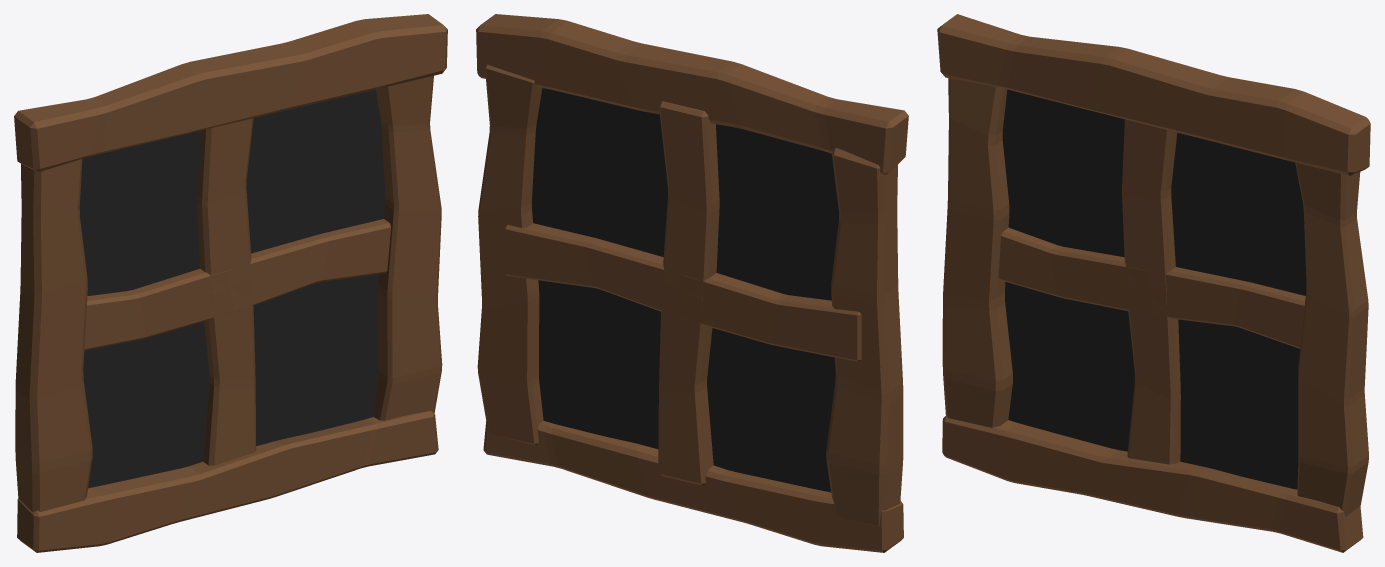
Rendered from window.fbx.
3 views of the same model, side by side, from view 1: azimuth 30°, elevation 25°; view 2: azimuth 150°, elevation 25°; view 3: azimuth 330°, elevation 25° (orthographic).
Visible parts, largest first — view 1: Window002; view 2: Window002; view 3: Window002.
Part boxes in pixels (x1=…): Window002: x1=14, y1=14, x2=447, y2=552; Window002: x1=476, y1=14, x2=908, y2=552; Window002: x1=937, y1=14, x2=1370, y2=552.
Size of the model in its own units: 137 by 140 by 13.65.
